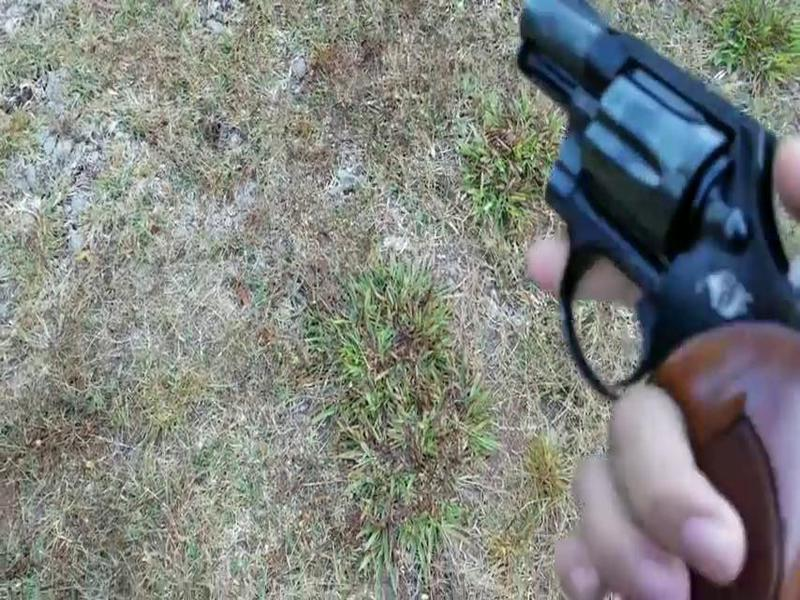Revolver: (493, 1, 800, 580)
